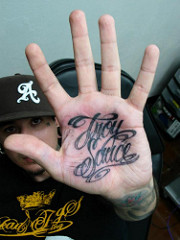palm: (60, 100, 154, 194)
